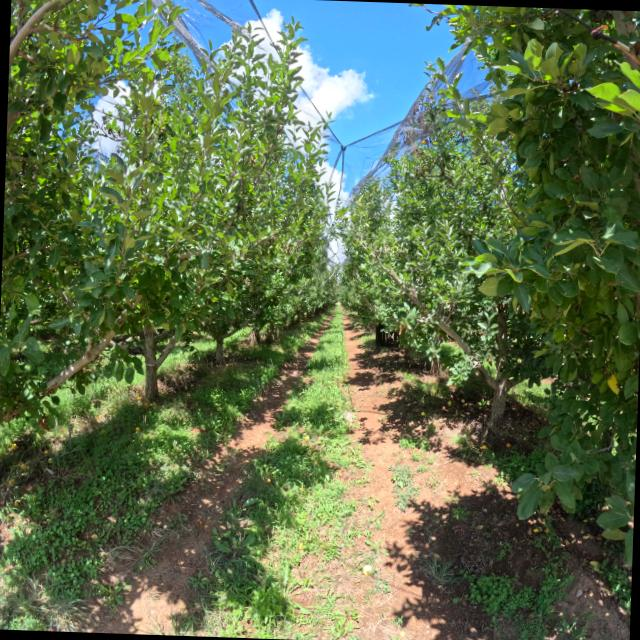-FireBlight-: (398, 323, 408, 336)
